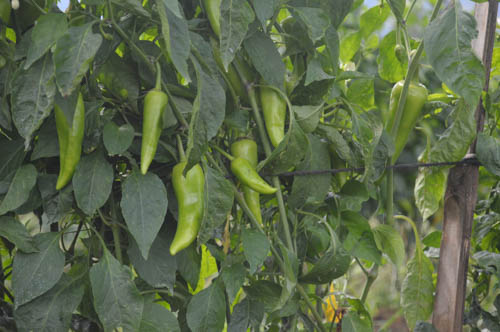ChiliPepper: (167, 165, 204, 258), (384, 81, 423, 163), (52, 98, 82, 189), (134, 93, 165, 172), (228, 141, 257, 219), (262, 77, 285, 146), (231, 162, 279, 193)
